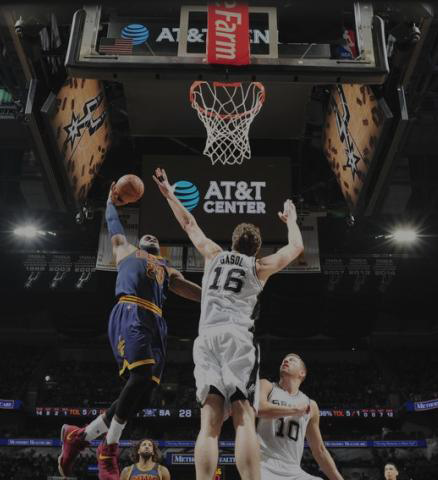ball: (108, 173, 144, 204)
basket: (186, 75, 268, 164)
player: (59, 201, 186, 480), (256, 352, 346, 480), (123, 438, 169, 480)
